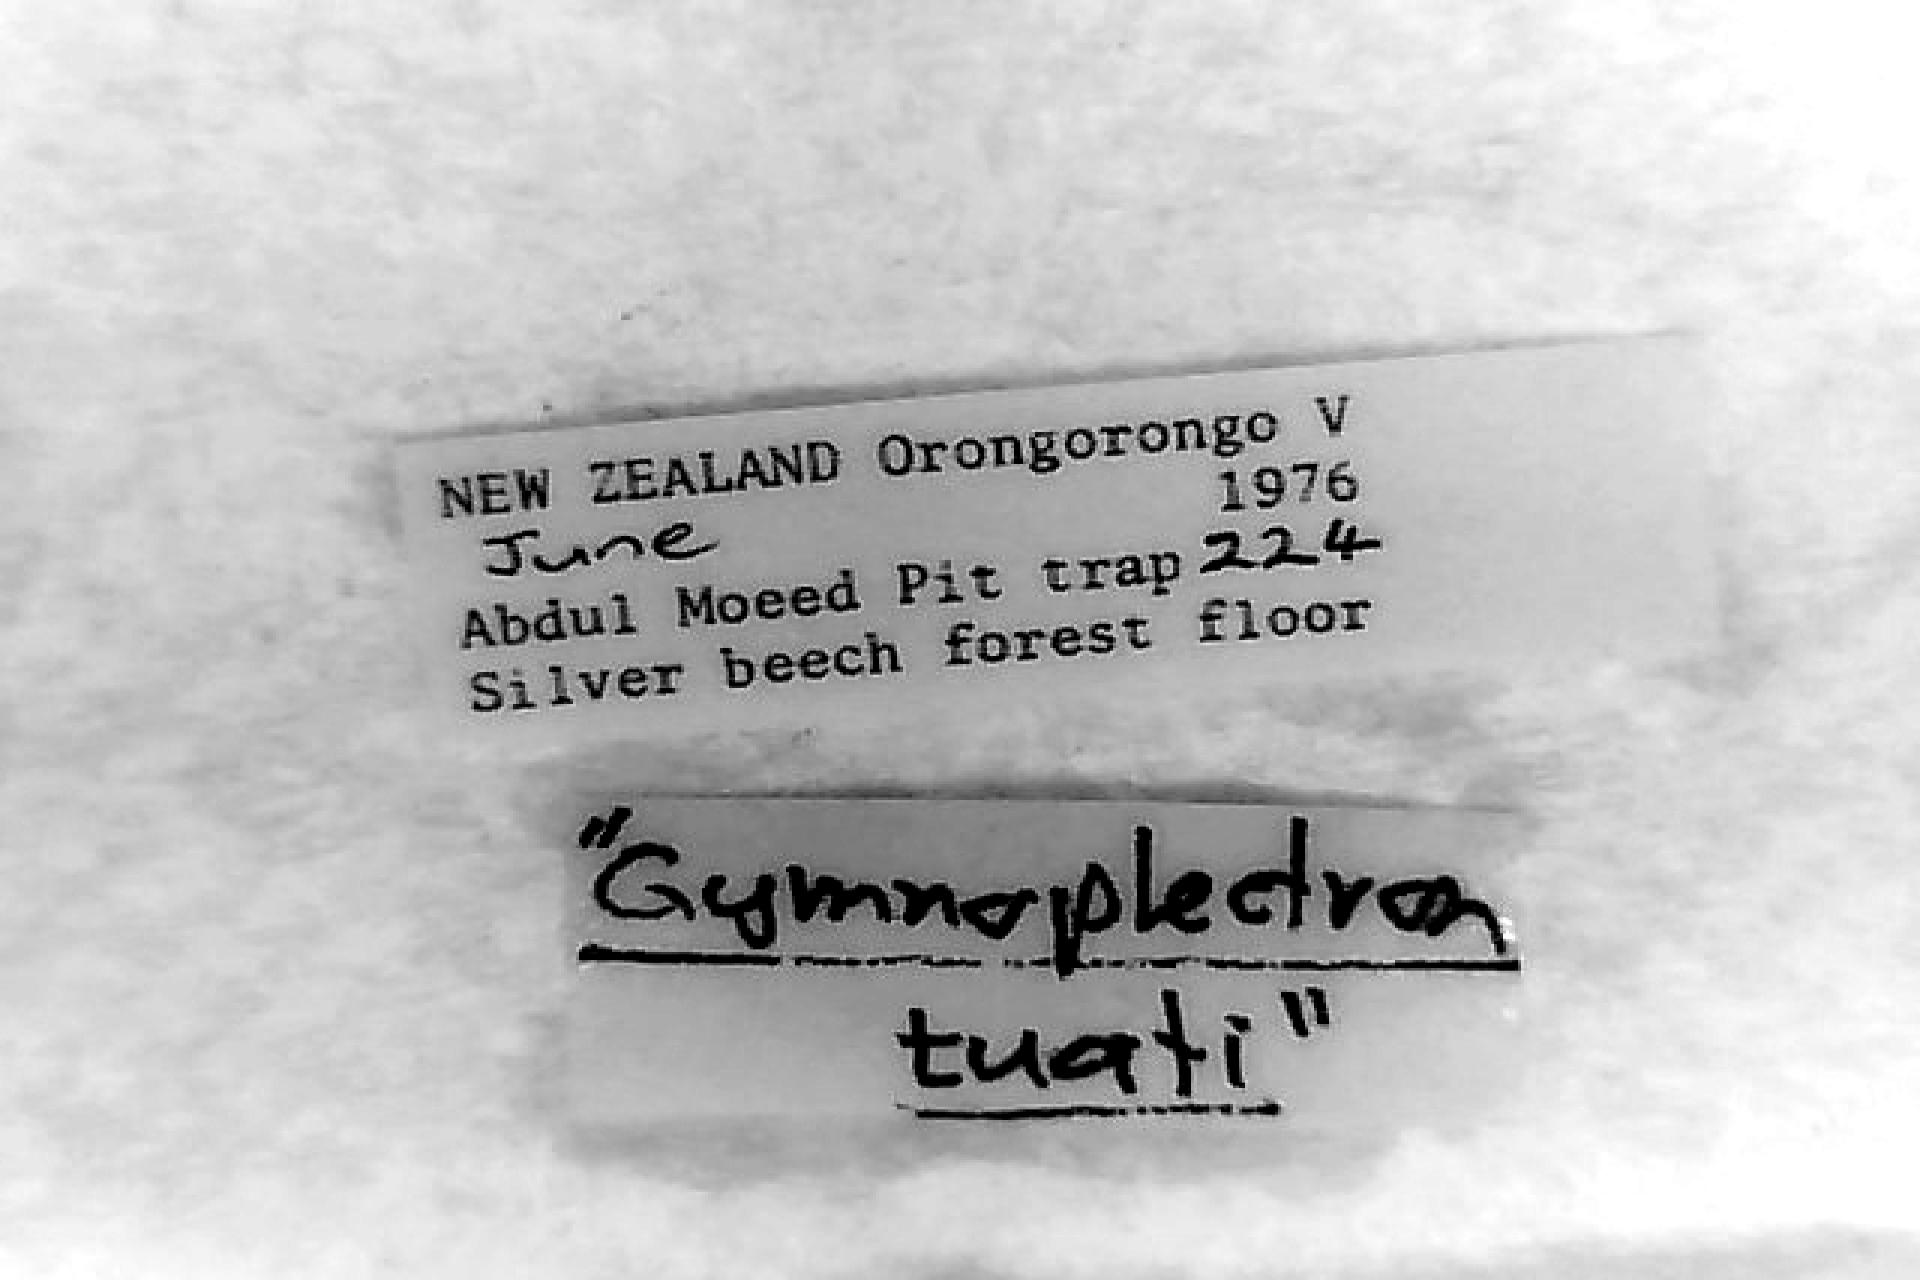hand_label: (574, 797, 1514, 1121)
mixed_label: (397, 337, 1717, 739)
